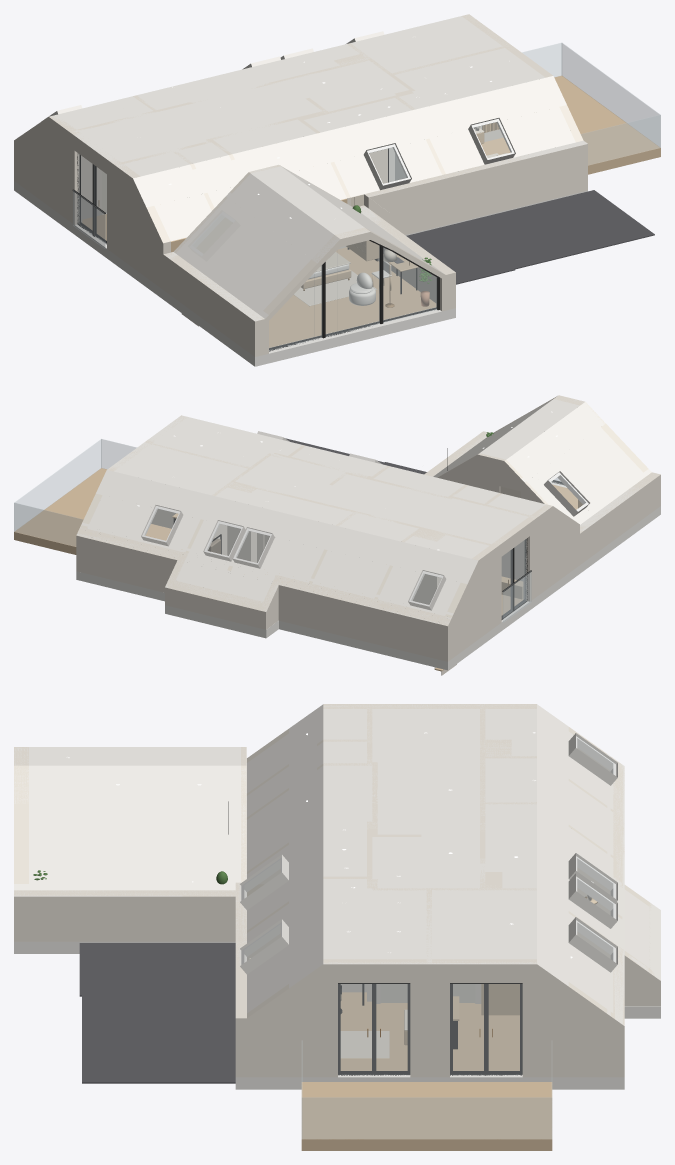
The model's file is poddasze.glb.
3 views of the same model, one above another, from view 1: azimuth 30°, elevation 25°; view 2: azimuth 150°, elevation 25°; view 3: azimuth 270°, elevation 25° (orthographic). The views are drawn at different scales.
Parts seen in each view (by area): view 1: sufit_skosy, sciany, szyba_szczyt, dach_salon, plyta, podloga_2/02, taras_296, taras_bal, dach_wejscie, taras_bal.001, nadproze.013, szyba (+8 smaller); view 2: sufit_skosy, sciany, plyta, taras_296, taras_bal, taras_bal.002, szyba, balustrada, komin.001, komin, nadproze.013, szyba_okna_dach.002 (+7 smaller); view 3: sufit_skosy, sciany, taras_296, dach_salon, taras_bal, dach_wejscie, szyba.001, szyba.002, plyta, podloga_2/07, podloga_2/06, nadproze.013 (+4 smaller).
Part boxes in pixels (x1=…): sufit_skosy: x1=50, y1=14, x2=587, y2=321; sciany: x1=14, y1=14, x2=587, y2=356; szyba_szczyt: x1=269, y1=240, x2=436, y2=350; dach_salon: x1=454, y1=190, x2=654, y2=269; plyta: x1=14, y1=181, x2=587, y2=366; podloga_2/02: x1=269, y1=247, x2=436, y2=347; taras_296: x1=554, y1=75, x2=660, y2=174; taras_bal: x1=561, y1=43, x2=660, y2=147; dach_wejscie: x1=406, y1=224, x2=515, y2=284; taras_bal.001: x1=581, y1=115, x2=660, y2=165; nadproze.013: x1=263, y1=227, x2=441, y2=320; szyba: x1=78, y1=154, x2=106, y2=244; sufit_skosy: x1=76, y1=398, x2=658, y2=625; sciany: x1=76, y1=415, x2=660, y2=661; plyta: x1=76, y1=481, x2=660, y2=670; taras_296: x1=14, y1=468, x2=106, y2=554; taras_bal: x1=14, y1=439, x2=101, y2=531; taras_bal.002: x1=14, y1=503, x2=83, y2=546; szyba: x1=502, y1=539, x2=526, y2=618; balustrada: x1=503, y1=571, x2=531, y2=622; komin.001: x1=227, y1=483, x2=256, y2=562; komin: x1=413, y1=529, x2=444, y2=604; nadproze.013: x1=493, y1=395, x2=648, y2=472; szyba_okna_dach.002: x1=207, y1=524, x2=240, y2=554; sufit_skosy: x1=14, y1=704, x2=660, y2=1024; sciany: x1=14, y1=704, x2=660, y2=1077; taras_296: x1=301, y1=1082, x2=552, y2=1150; dach_salon: x1=82, y1=995, x2=235, y2=1083; taras_bal: x1=302, y1=1097, x2=551, y2=1138; dach_wejscie: x1=79, y1=943, x2=235, y2=996; szyba.001: x1=450, y1=984, x2=522, y2=1074; szyba.002: x1=338, y1=984, x2=409, y2=1074; plyta: x1=14, y1=941, x2=660, y2=1089; podloga_2/07: x1=453, y1=1004, x2=519, y2=1070; podloga_2/06: x1=340, y1=992, x2=407, y2=1070; nadproze.013: x1=14, y1=747, x2=28, y2=883.
Size of the model in its own units: 16.87 by 5.96 by 14.3.
